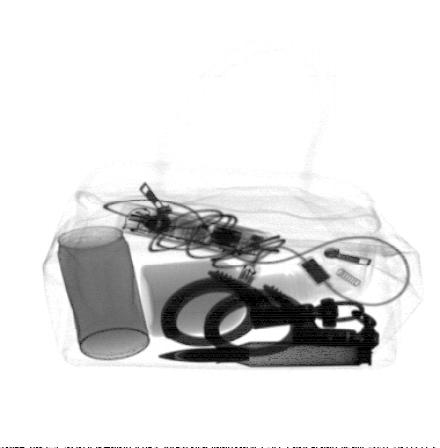Bullet: (158, 341, 373, 368)
HandCuffs: (160, 267, 386, 359)
